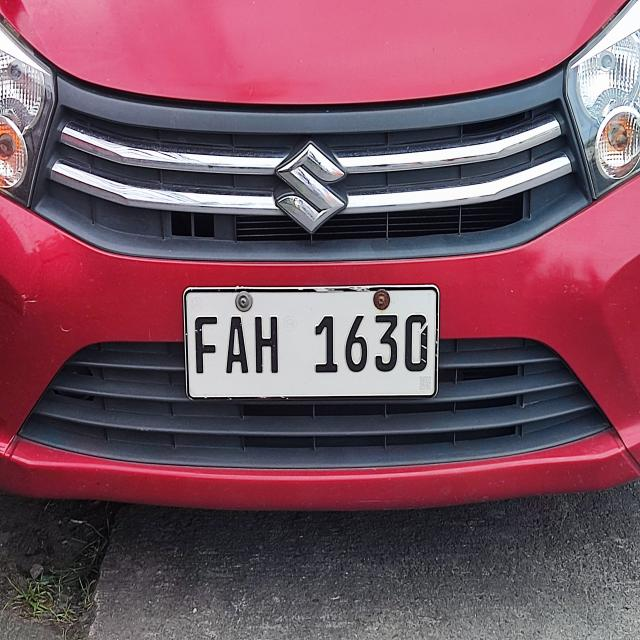plate: (181, 282, 442, 403)
